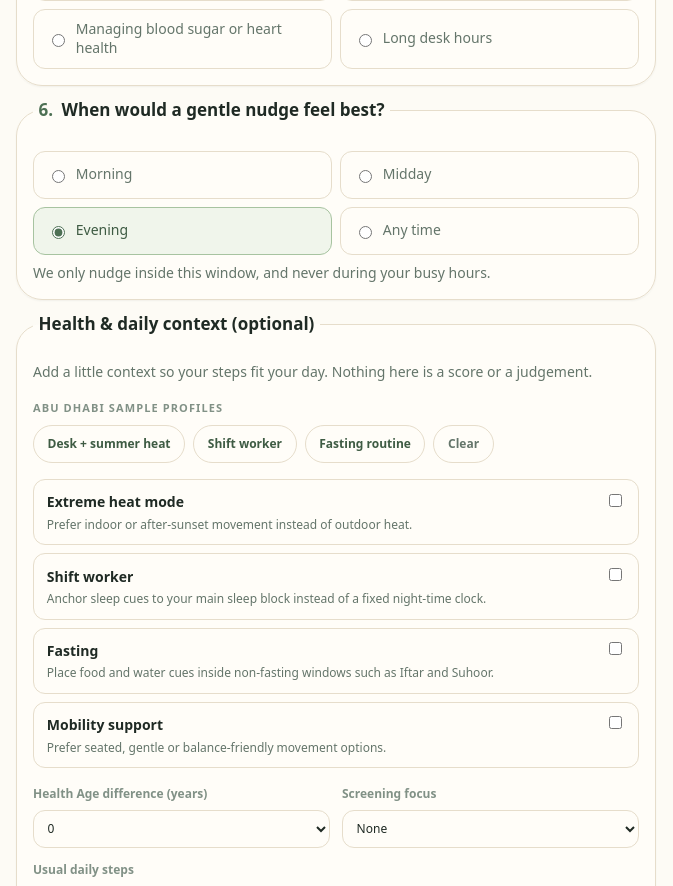
Scenario: ecosystem context on personalisation › clears a preset back to the neutral context
The image size is (673, 886).
(page scrolled)
Click the button "Desk + summer heat": point(109, 444) [33, 425, 185, 463]
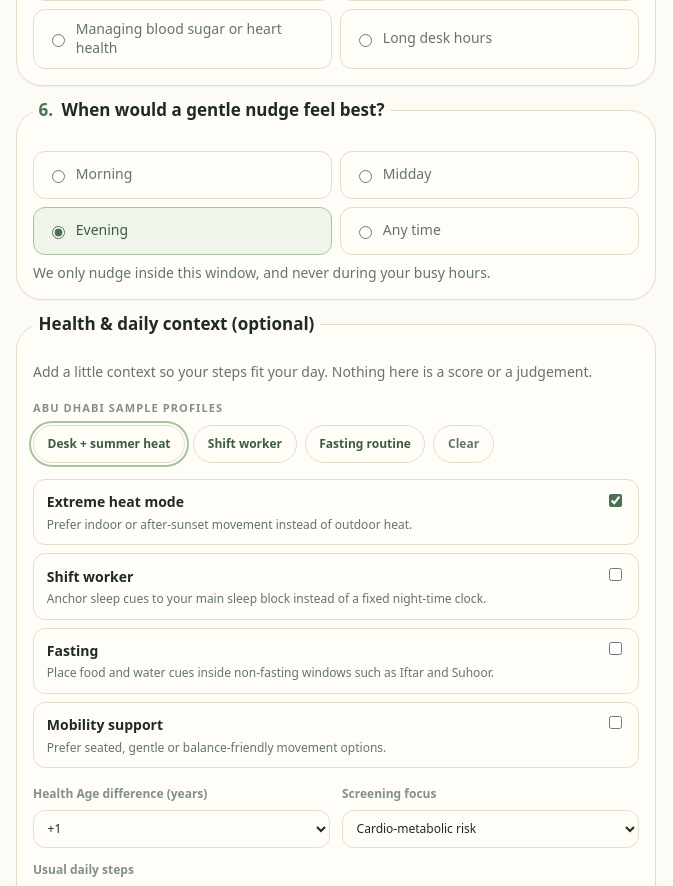
Click the button "Clear": point(464, 444) [434, 425, 494, 463]
(page scrolled)
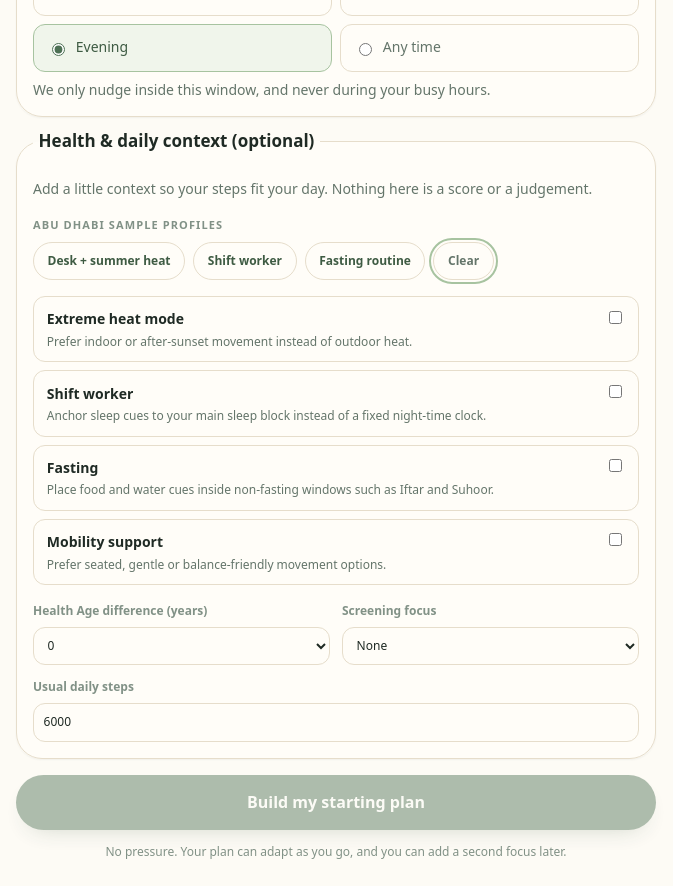
Now the checkbox labelled "Extreme heat mode" is not checked, box [609, 311, 622, 324]
Now the number field labelled "Usual daily steps" holds "6000", box [33, 702, 639, 742]
